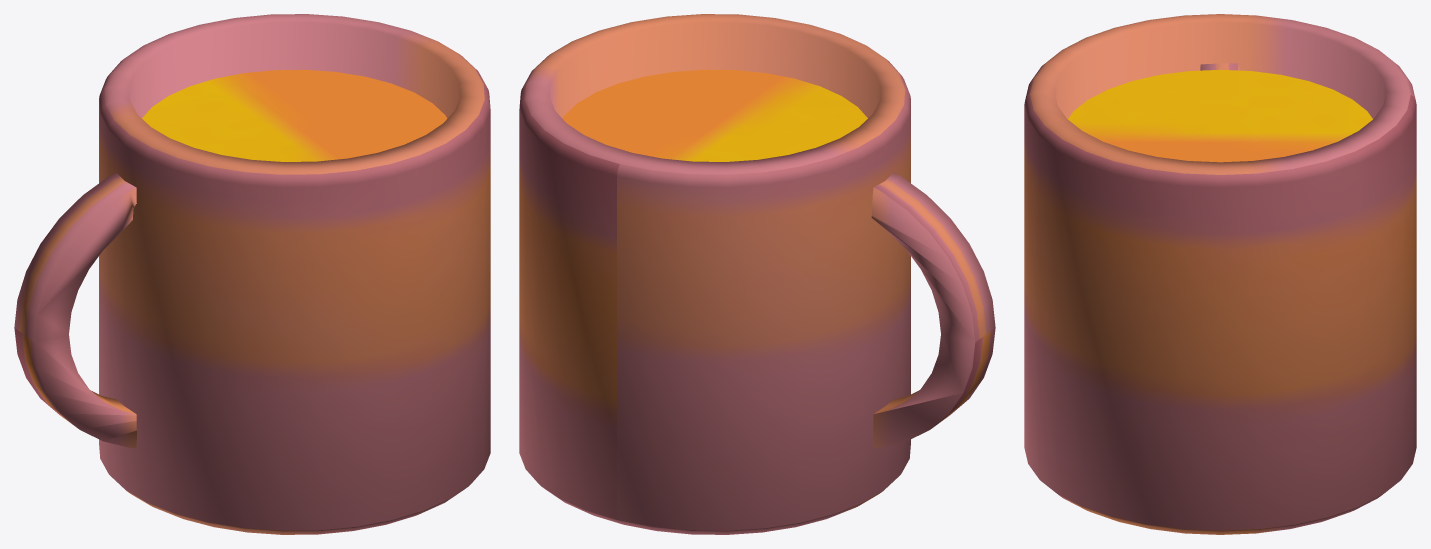
Rendered from cup women.fbx.
The picture shows the model from 3 angles, left to right: view 1: azimuth 30°, elevation 25°; view 2: azimuth 150°, elevation 25°; view 3: azimuth 270°, elevation 25°; orthographic projection.
Parts seen in each view (by area): view 1: Cylinder.003; view 2: Cylinder.003; view 3: Cylinder.003.
Boxes of the visible parts, x1,y1,x2,y2 form: Cylinder.003: (14,14,490,534); Cylinder.003: (519,14,995,534); Cylinder.003: (1024,14,1416,534).
Size of the model in its own units: 40.68 by 32.79 by 31.42.
